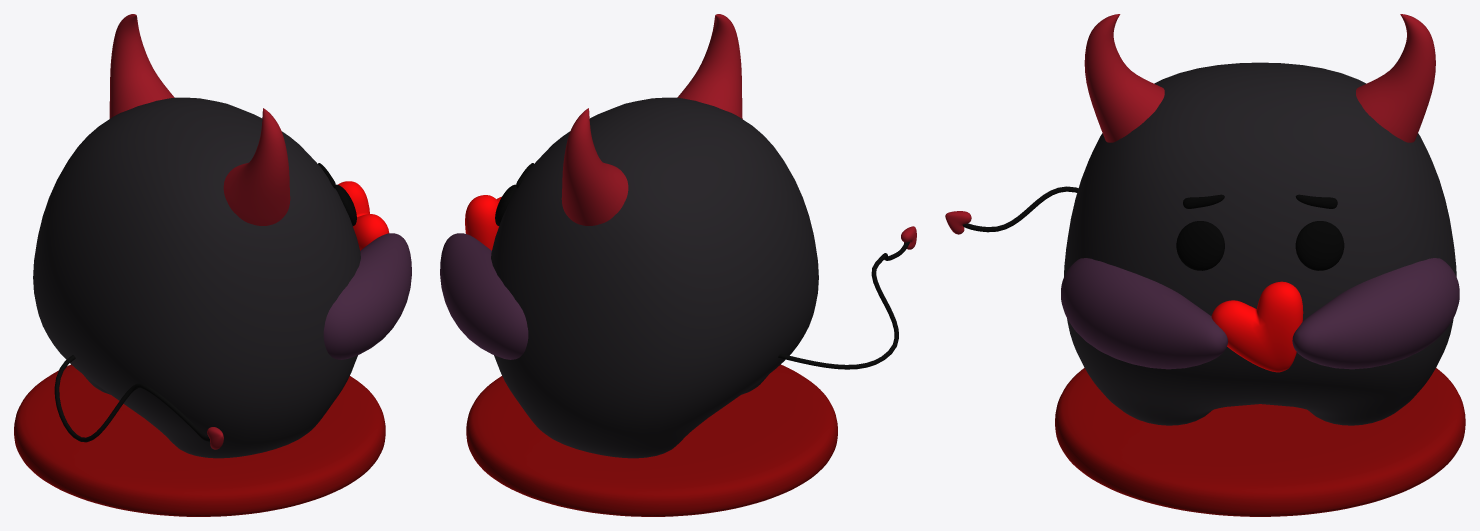
The model's file is Noomba.fbx.
3 renders of one model, left to right at view 1: azimuth 30°, elevation 25°; view 2: azimuth 150°, elevation 25°; view 3: azimuth 270°, elevation 25°, orthographic. The views are drawn at different scales.
Visible parts, largest first — view 1: Cube, Cylinder.003, Cylinder, Cylinder.002, BezierCurve, Cube.002; view 2: Cube, Cylinder.003, Cylinder, Cylinder.002, Cube.002, BezierCurve; view 3: Cube, Cylinder.003, Cylinder.002, Cylinder, Cube.002, Sphere, Cylinder.001, BezierCurve.
Part boxes in pixels (bbox=[...]): Cube: bbox=[33, 97, 360, 458]; Cylinder.003: bbox=[14, 364, 385, 516]; Cylinder: bbox=[109, 14, 290, 225]; Cylinder.002: bbox=[323, 233, 411, 359]; BezierCurve: bbox=[54, 355, 209, 442]; Cube.002: bbox=[338, 181, 389, 250]; Cube: bbox=[491, 97, 818, 458]; Cylinder.003: bbox=[466, 364, 837, 516]; Cylinder: bbox=[561, 14, 742, 225]; Cylinder.002: bbox=[440, 233, 528, 359]; Cube.002: bbox=[465, 195, 501, 250]; BezierCurve: bbox=[778, 241, 909, 369]; Cube: bbox=[1064, 62, 1456, 425]; Cylinder.003: bbox=[1055, 368, 1465, 516]; Cylinder.002: bbox=[1061, 258, 1459, 369]; Cylinder: bbox=[1084, 14, 1435, 142]; Cube.002: bbox=[1211, 281, 1303, 372]; Sphere: bbox=[1176, 221, 1344, 270]; Cylinder.001: bbox=[1183, 194, 1337, 208]; BezierCurve: bbox=[962, 186, 1078, 232].
Size of the model in its own units: 231 by 231 by 259.
